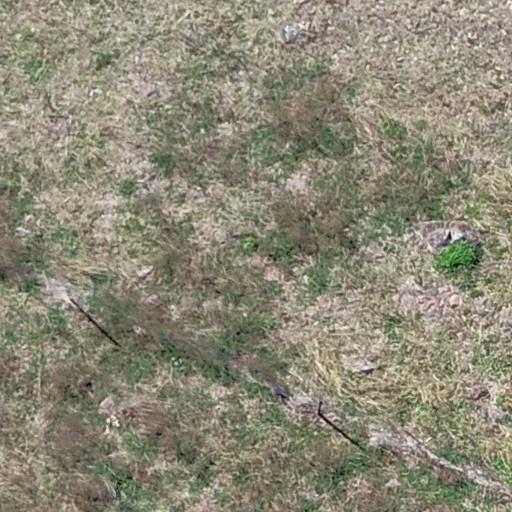stone: (430, 232, 452, 248), (452, 232, 468, 243)
